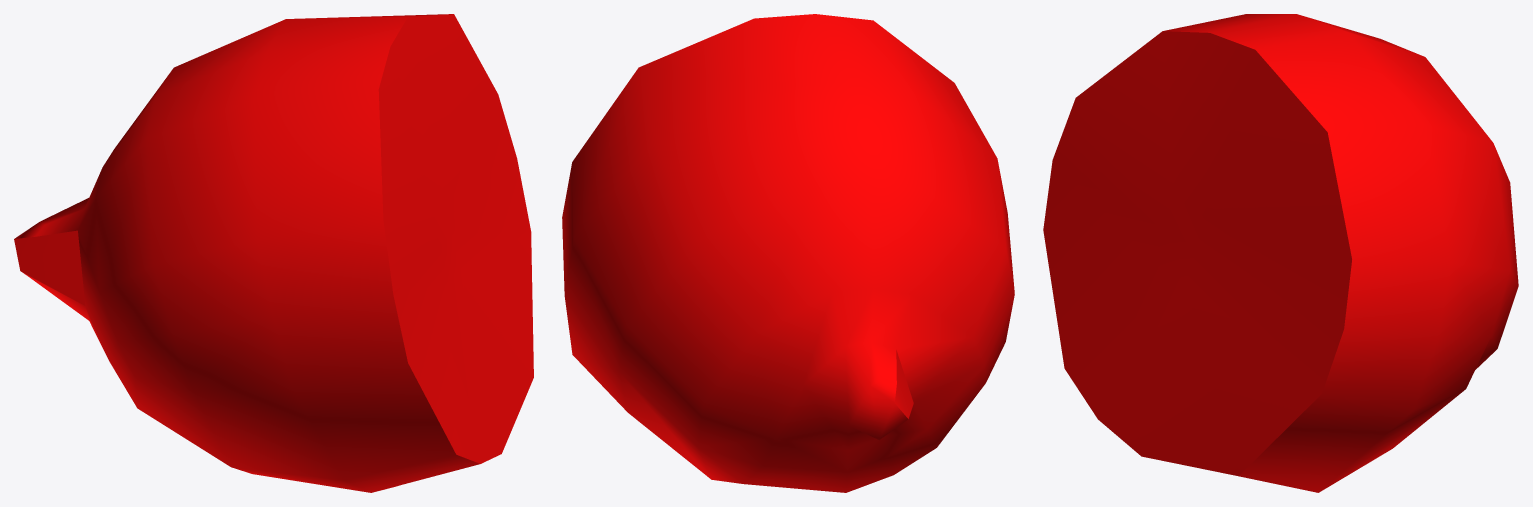
The model's file is lemon2_coll.FBX.
3 views of the same model, side by side, from view 1: azimuth 30°, elevation 25°; view 2: azimuth 150°, elevation 25°; view 3: azimuth 270°, elevation 25° (orthographic). The views are drawn at different scales.
Parts seen in each view (by area): view 1: lemon2_coll; view 2: lemon2_coll; view 3: lemon2_coll.
Boxes of the visible parts, x1,y1,x2,y2 form: lemon2_coll: [14, 14, 533, 492]; lemon2_coll: [562, 14, 1014, 492]; lemon2_coll: [1043, 14, 1518, 492].
Bounding box in the file's own units: 45.3 × 44.63 × 44.51.
